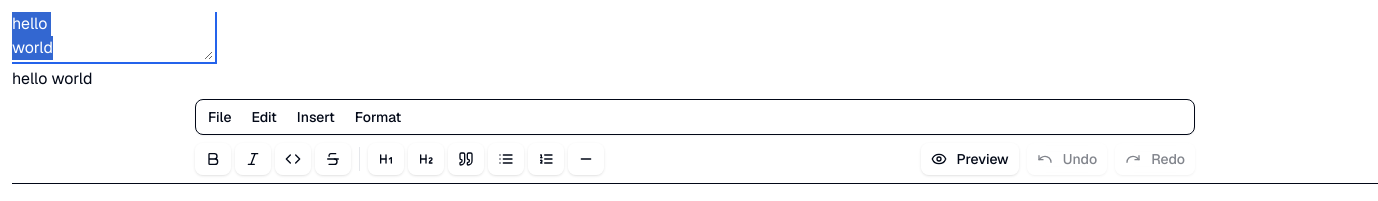
Test: EditorToolbar › headings H1-H2 are mutually exclusive (apply replaces level)
Click the button named "Heading 1".
click(386, 159)  # box [368,143,404,175]
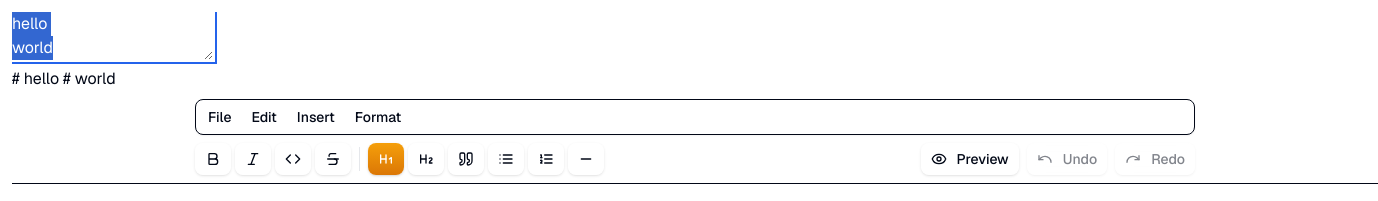
Expected: the text with test id "value" reads "# hello # world", [12,68,116,89]
Click the button named "Heading 2".
click(426, 159)  # box [408,143,444,175]
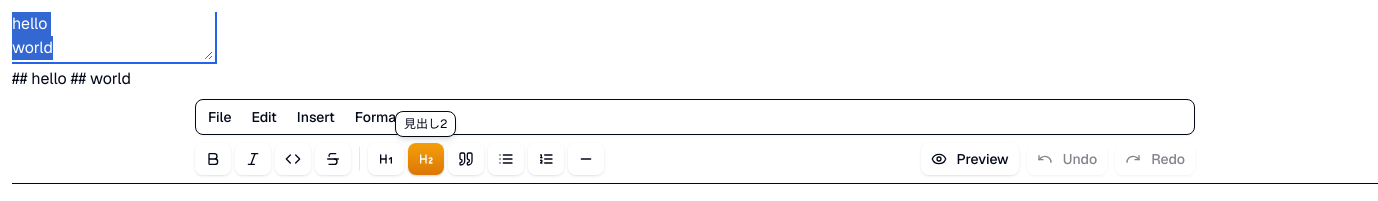
Expected: the text with test id "value" reads "## hello ## world", [12,68,131,89]
